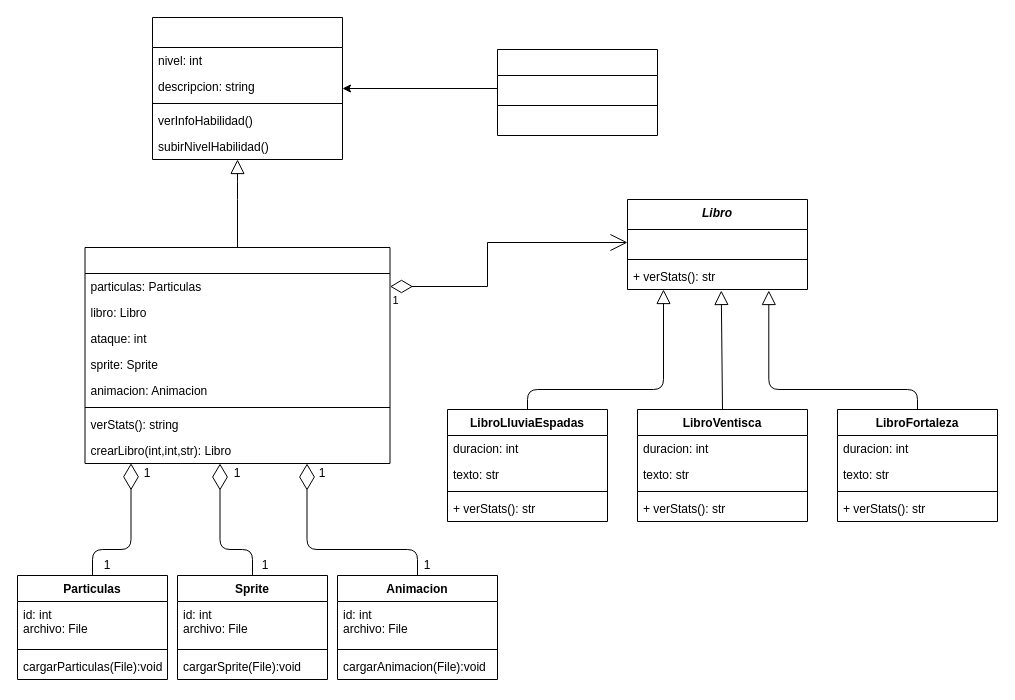
This 1015x700 diagram has some shape labels left out. The box of each missing label's shape, as (x1, y1, x2, y2) in pixels:
Cliente: (496, 48, 658, 136)
HabilidadMagica: (152, 16, 342, 160)
Hechizo: (84, 246, 390, 464)
